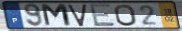2: (139, 4, 159, 26)
9: (23, 3, 45, 29)
E: (88, 3, 117, 28)
M: (39, 3, 74, 28)
O: (113, 4, 139, 27)
V: (67, 3, 88, 27)
